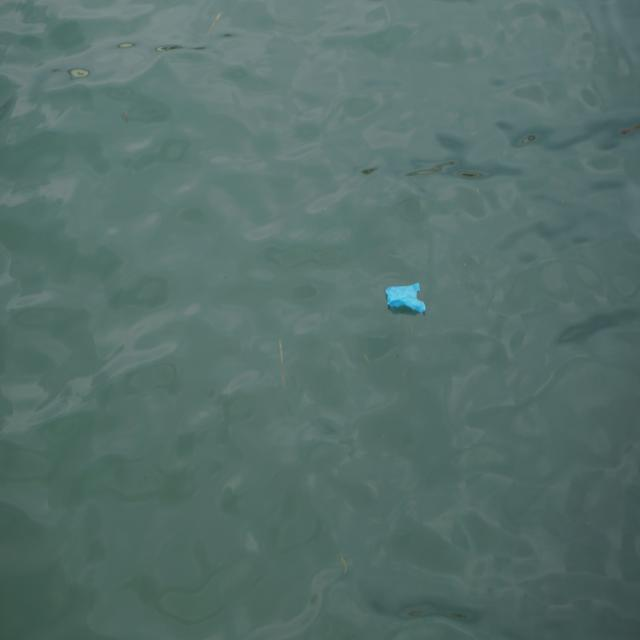Kantong Plastik: (383, 280, 429, 320)
